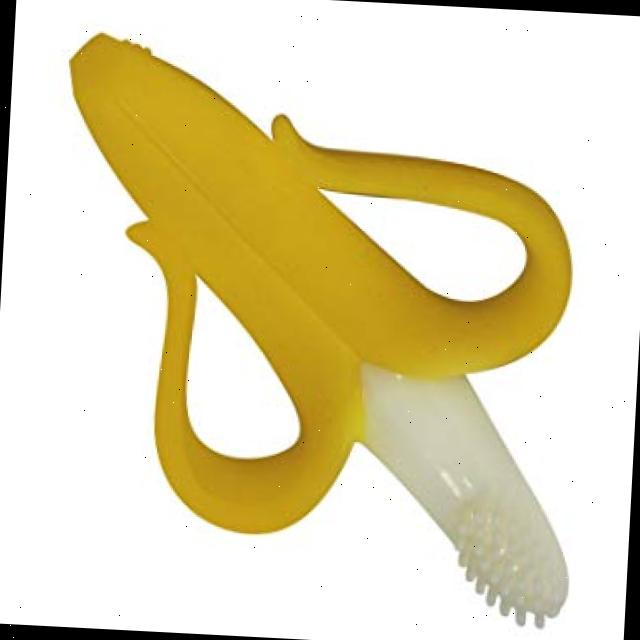Pisang: (41, 31, 598, 634)
